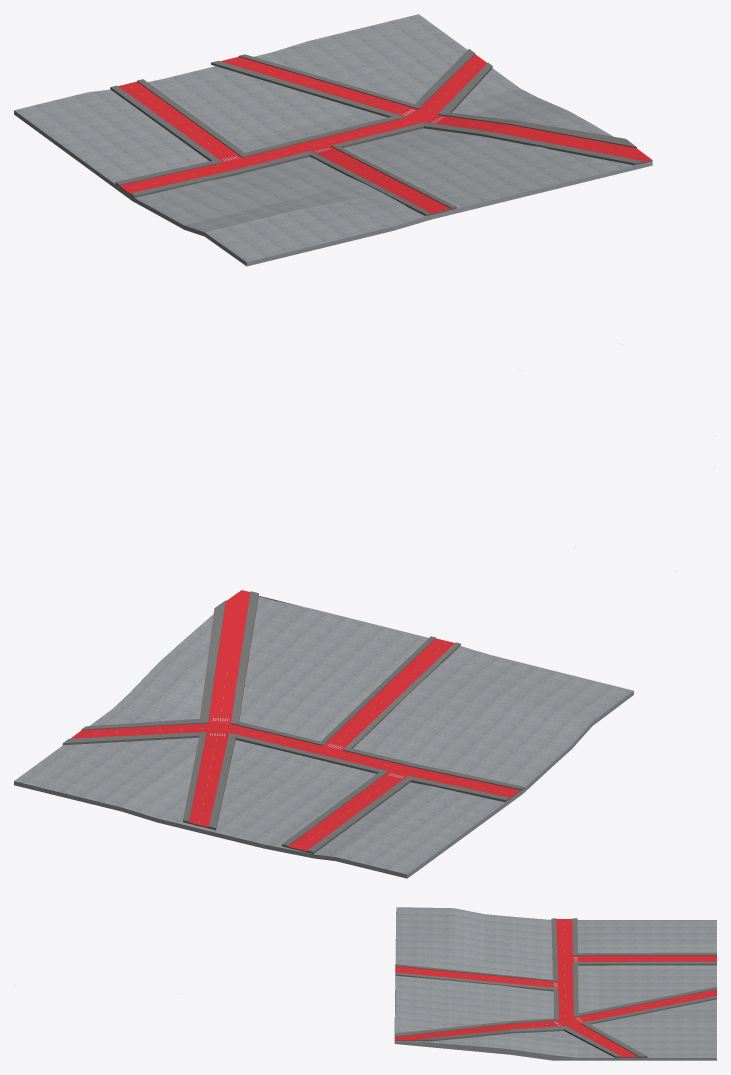
Rendered from Boden1.fbx.
The picture shows the model from 3 angles, top to bottom: view 1: azimuth 30°, elevation 25°; view 2: azimuth 150°, elevation 25°; view 3: azimuth 270°, elevation 25°; orthographic projection. The views are drawn at different scales.
Parts seen in each view (by area): view 1: Geländer, Strasse; view 2: Geländer, Strasse; view 3: Geländer, Strasse.
Boxes of the visible parts, x1,y1,x2,y2 form: Geländer: (14,14,652,266); Strasse: (110,49,652,216); Geländer: (14,596,633,878); Strasse: (62,590,524,854); Geländer: (394,907,716,1060); Strasse: (394,918,716,1057).
Bounding box in the file's own units: 23769 × 1857 × 51843.
